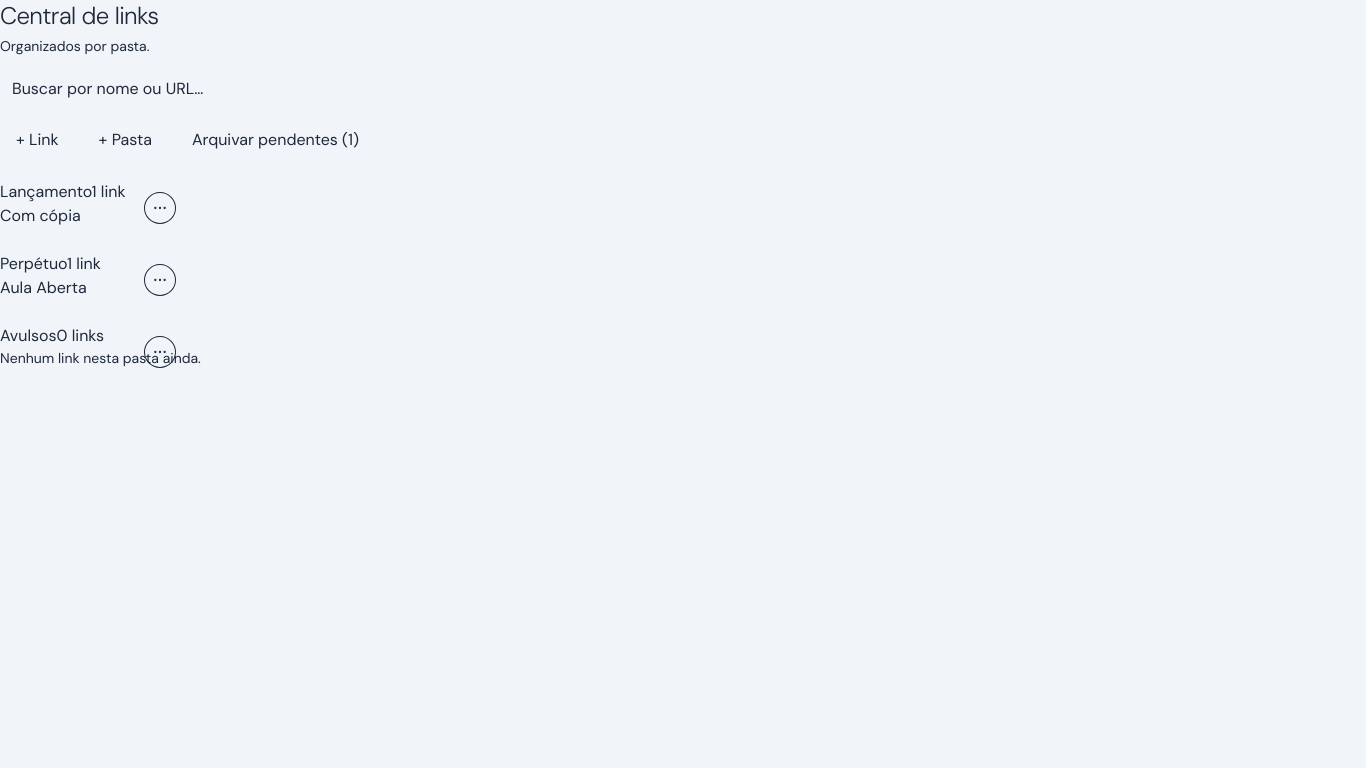
Central de links: página arquivada › cartão com cópia ativa: selo, Ver cópia, Copiar endereço, Abrir página e Remover arquivo (admin)
Expected: the element named "Pastas" is shown, 0,180 -> 201,368
What coordinates should you click on to do the following:
click the button "Lançamento1 link"
I would click on:
 (63, 192)
Its box is 0,180 -> 126,204.
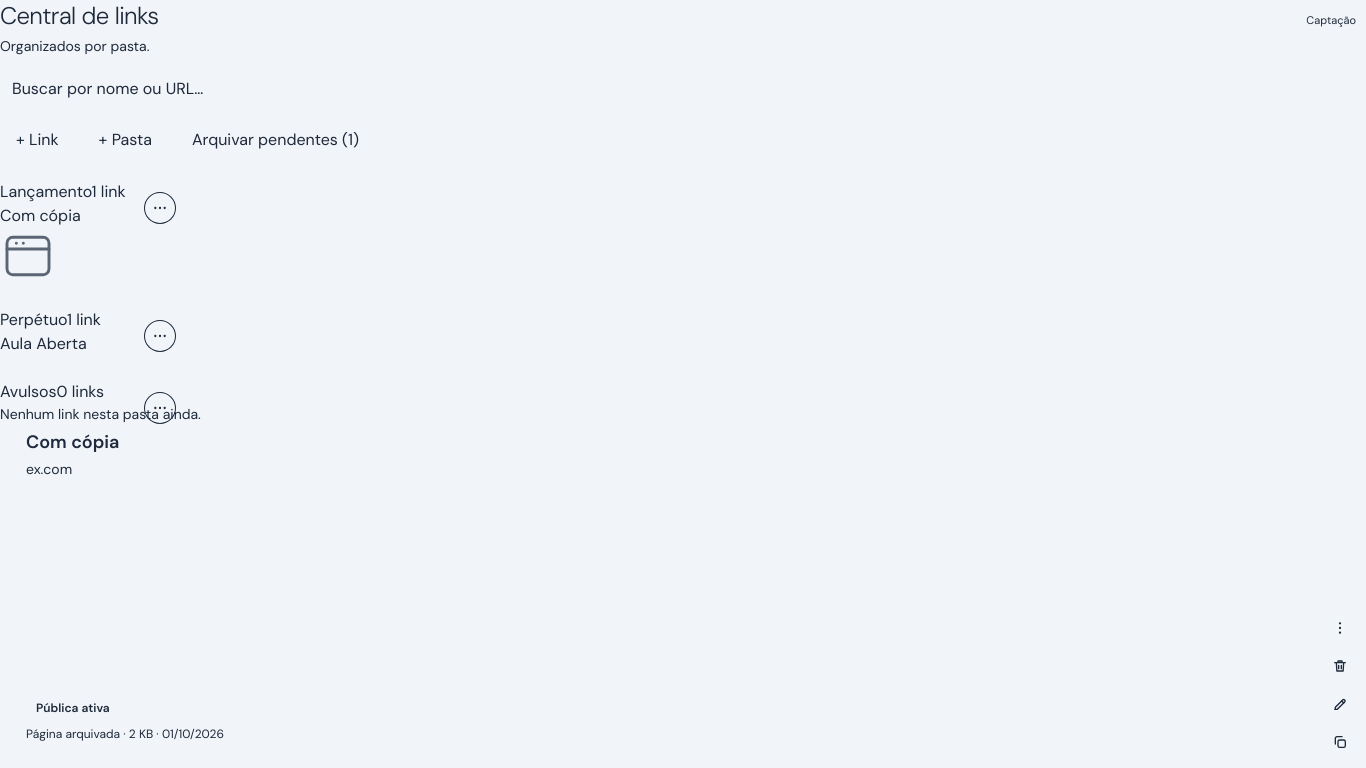
Result: the text "Pública ativa" is shown at 36,700 -> 110,716
What coordinates should you click on to do the following:
click the button named "Mais ações de Com cópia"
I would click on:
 (1340, 628)
Its box is 1324,612 -> 1356,644.
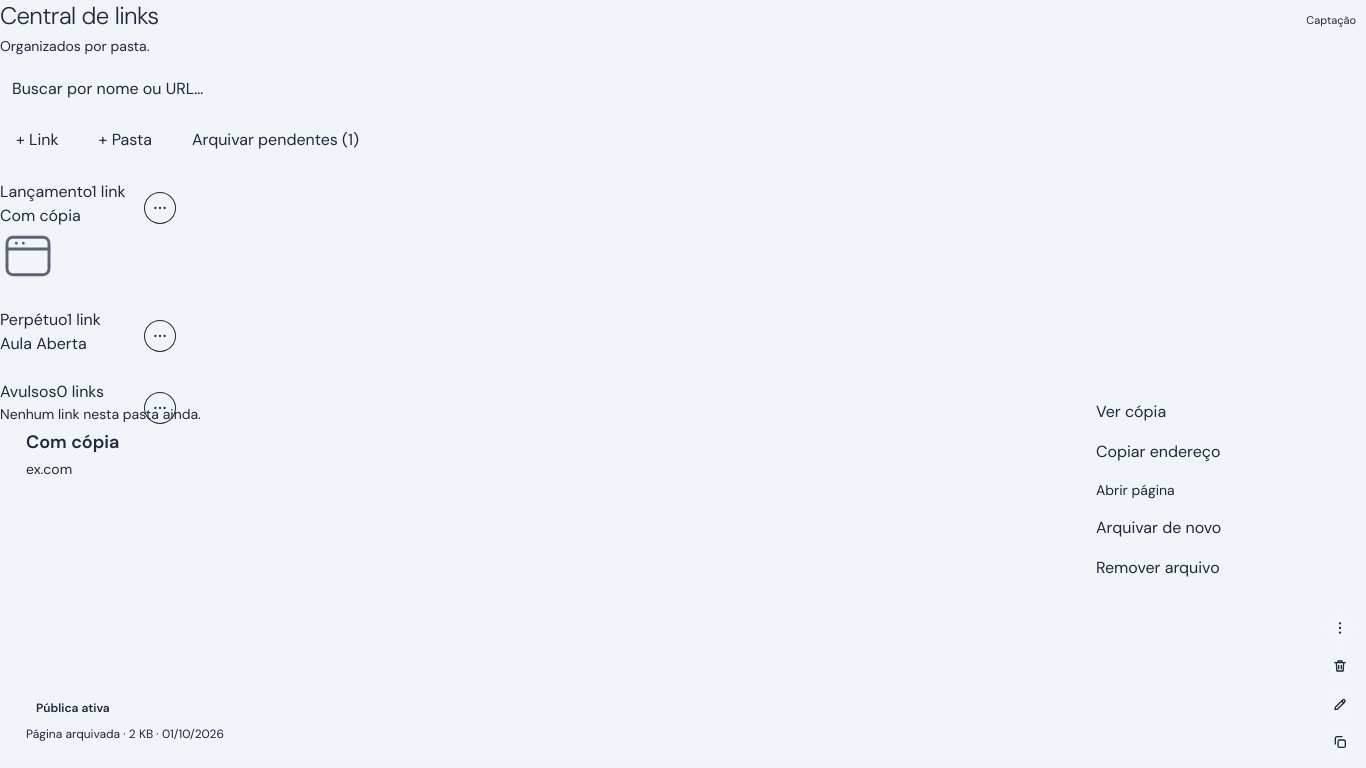
Result: the button "Ver cópia" is shown at 1084,392 -> 1340,432
Result: the button "Copiar endereço" is shown at 1084,432 -> 1340,472
Result: the button "Remover arquivo" is shown at 1084,548 -> 1340,588
